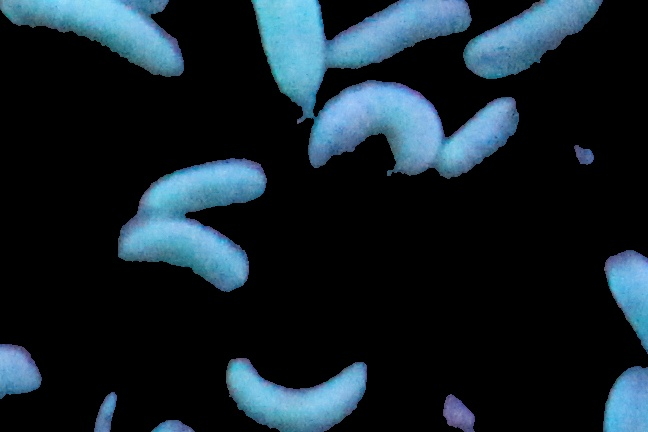larvae: (2, 1, 185, 80), (307, 82, 443, 175), (463, 1, 607, 85), (324, 1, 472, 75), (223, 357, 372, 430), (241, 1, 329, 119), (118, 218, 248, 293), (436, 96, 519, 189), (140, 157, 266, 209)
